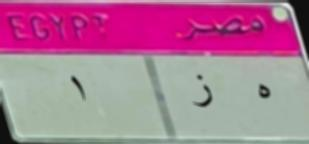1: (69, 72, 90, 106)
haa: (247, 79, 275, 105)
zay: (187, 71, 215, 115)
